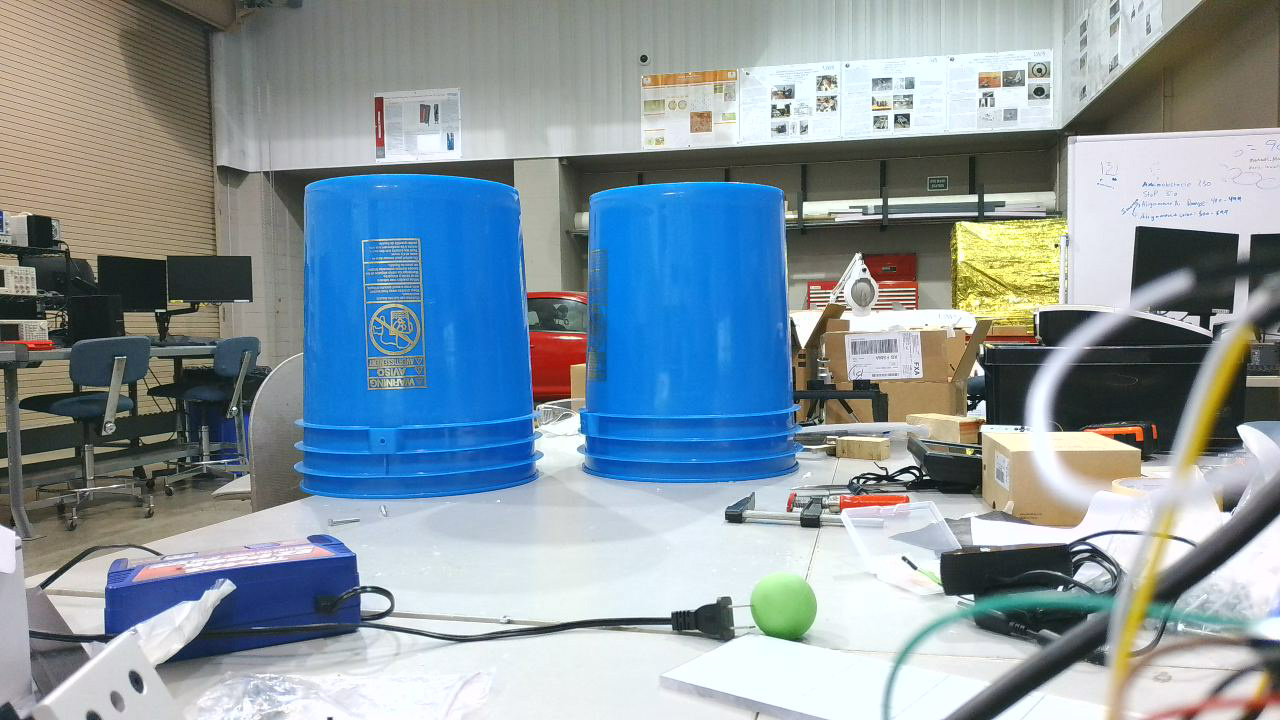blue_bucket: (296, 176, 551, 507), (578, 182, 814, 491)
